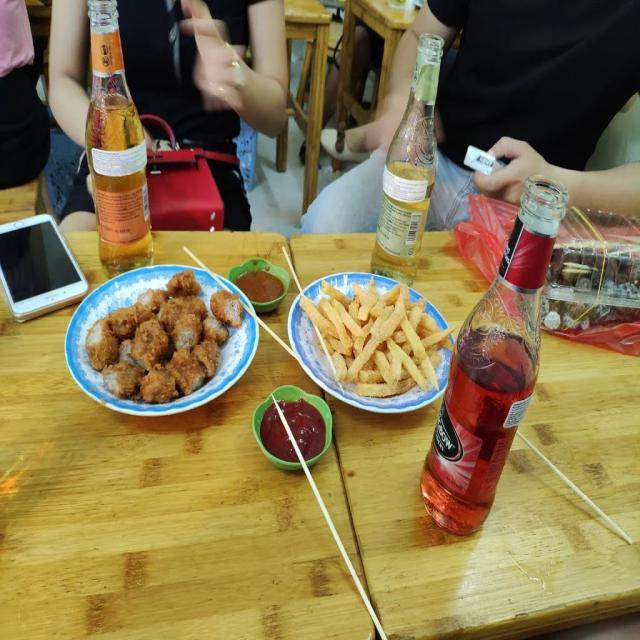khoai tay chien: (296, 279, 444, 394)
nem ran: (85, 266, 244, 403)
strong bow: (419, 178, 578, 537), (370, 30, 457, 257)
